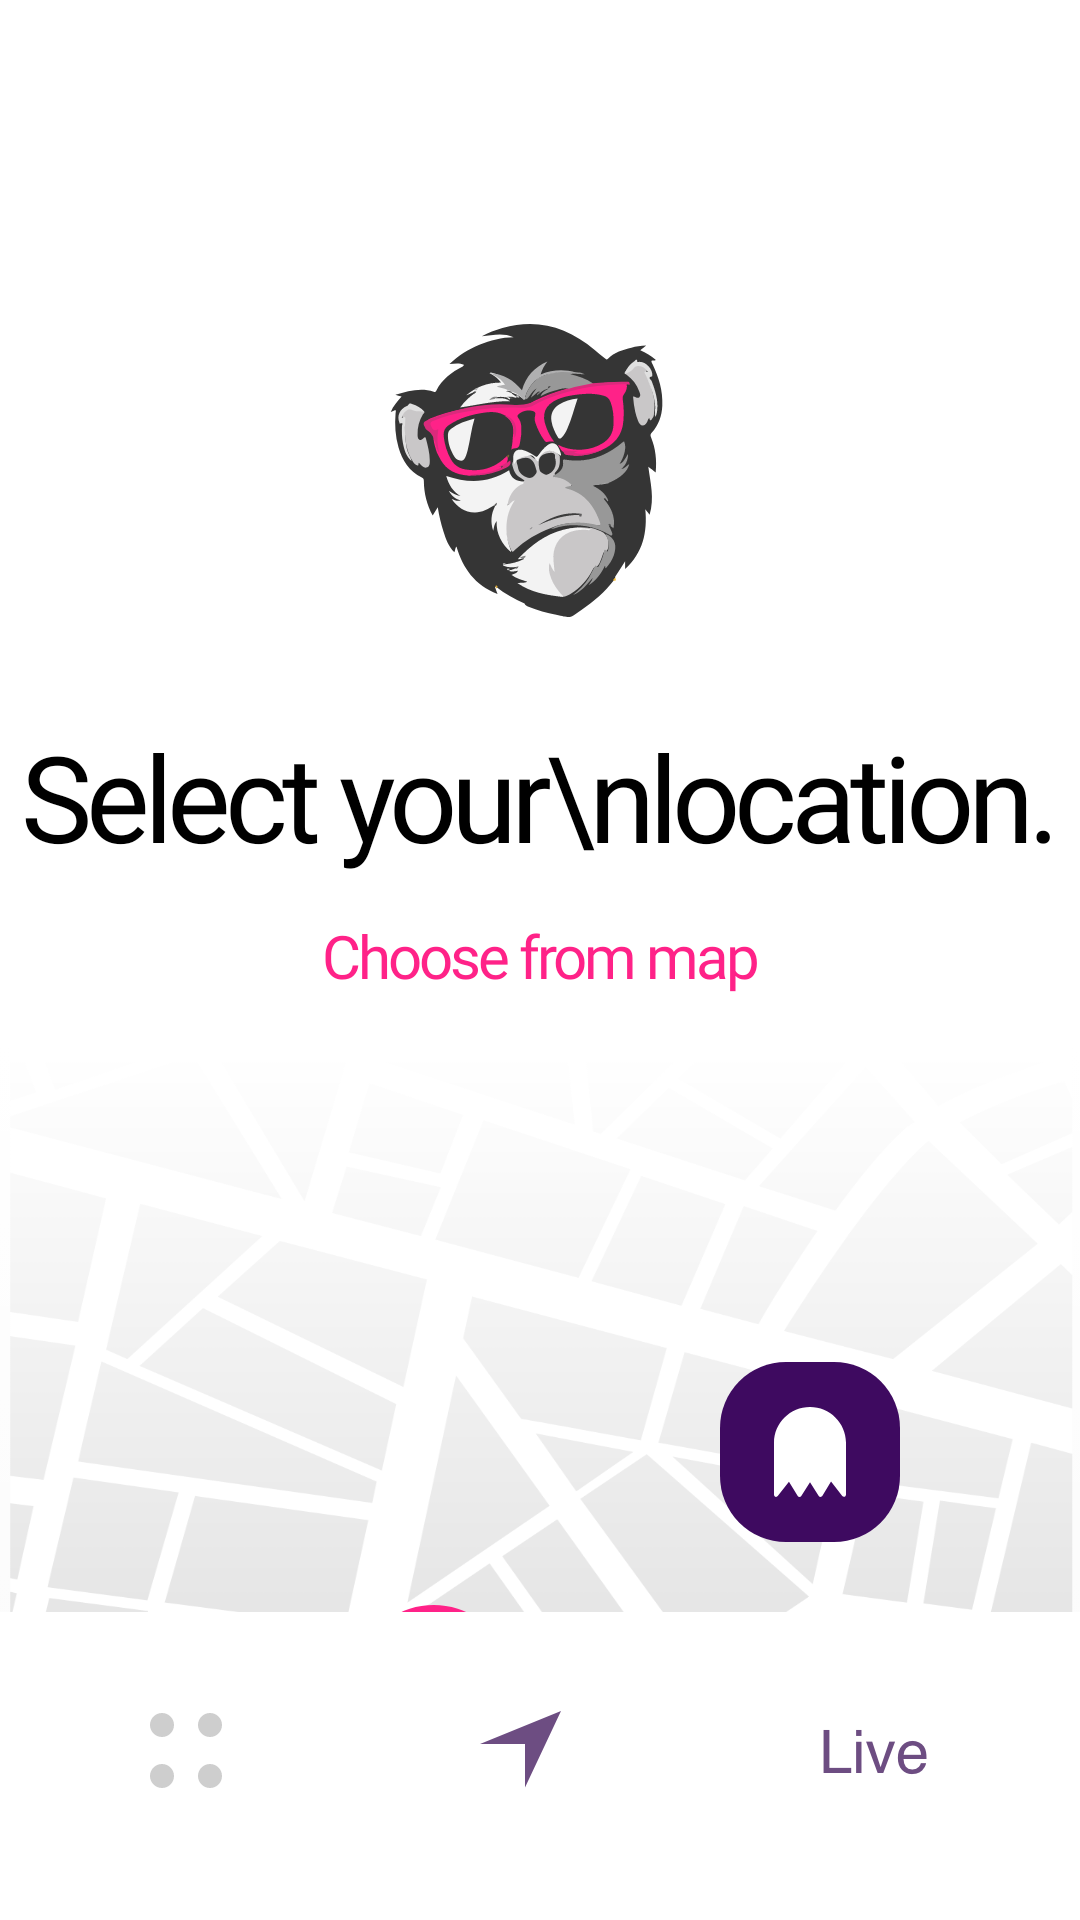

Screen size 1080px x 1920px. Icon name, then its box in pixels as (x1, y1, x2, y2):
ghost: (774, 1407, 846, 1497)
